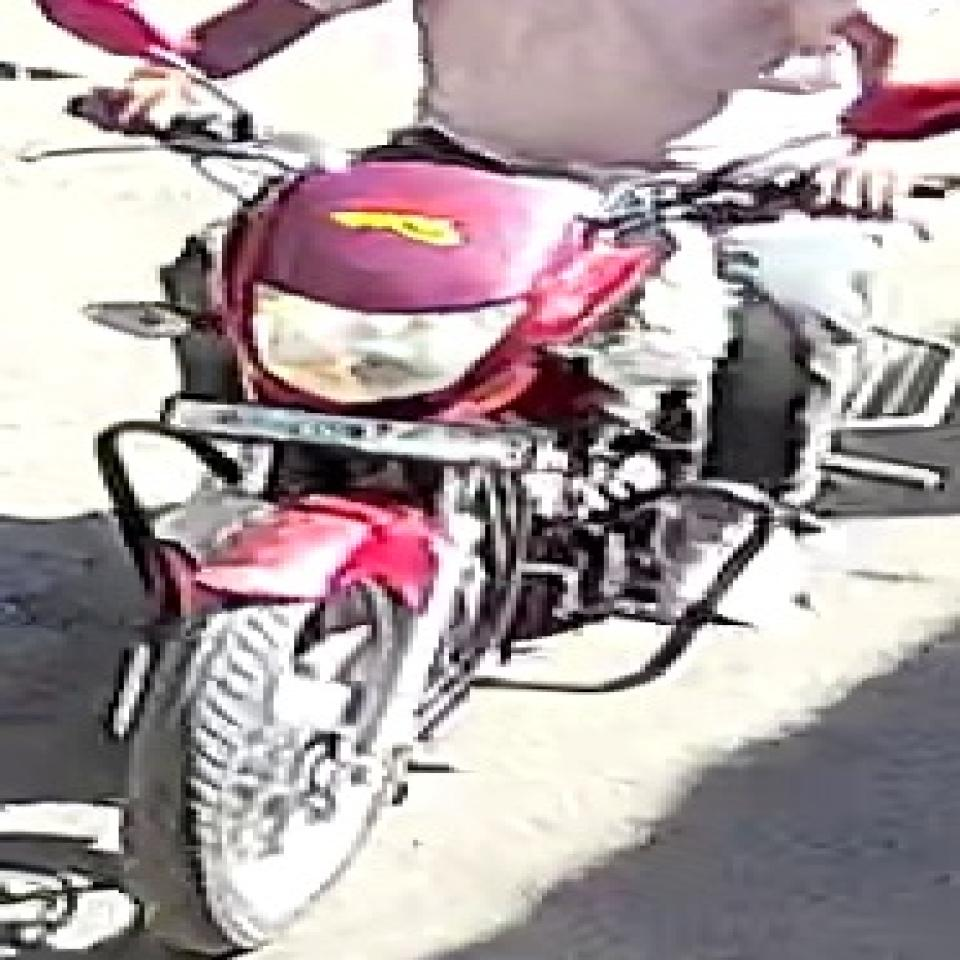head_light: (238, 280, 539, 409)
